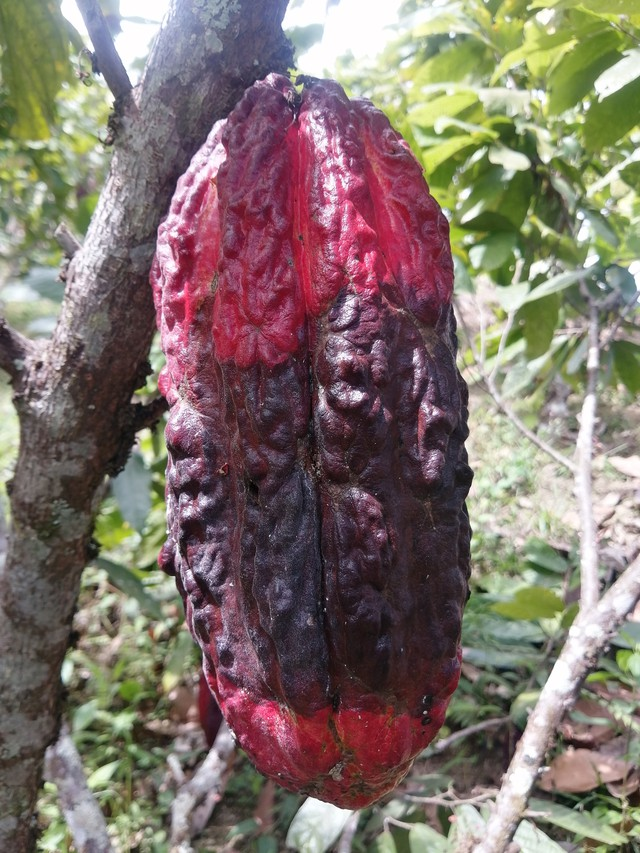carmenta foraseminis: (153, 67, 472, 815)
